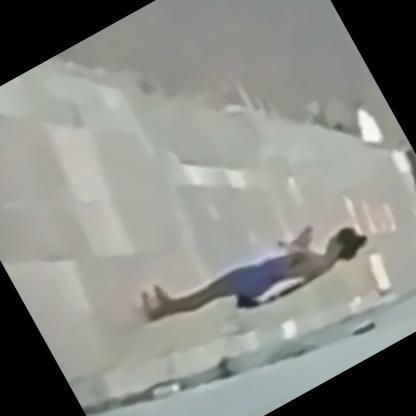Human Body: (123, 169, 386, 376)
